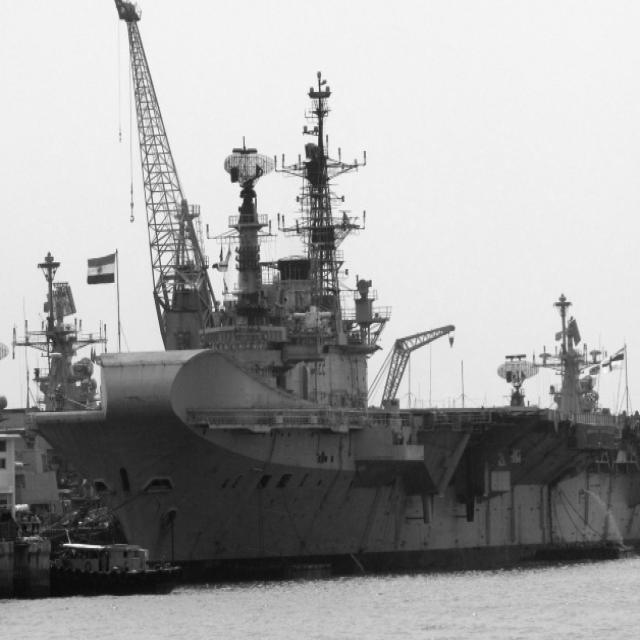Portanaves: (27, 68, 640, 581)
